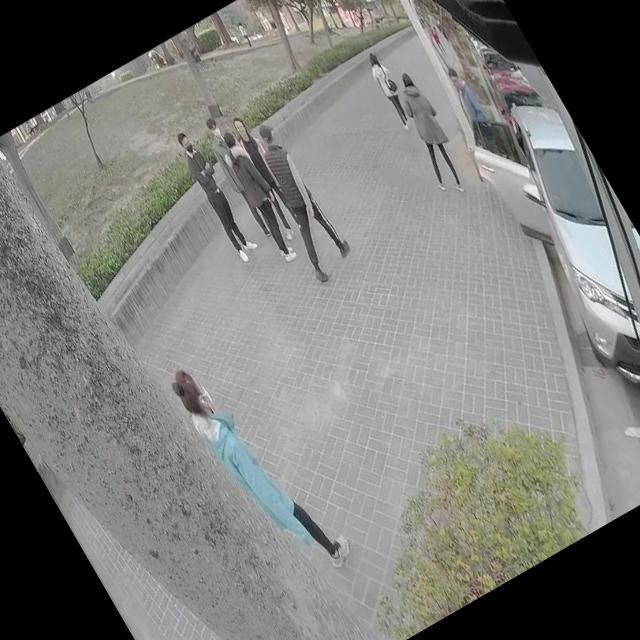person: (164, 339, 356, 594), (235, 116, 358, 284), (379, 66, 477, 200), (212, 128, 306, 264), (171, 128, 262, 264), (197, 113, 279, 236), (225, 113, 293, 212), (359, 47, 418, 132), (442, 64, 487, 125), (230, 18, 256, 51)
